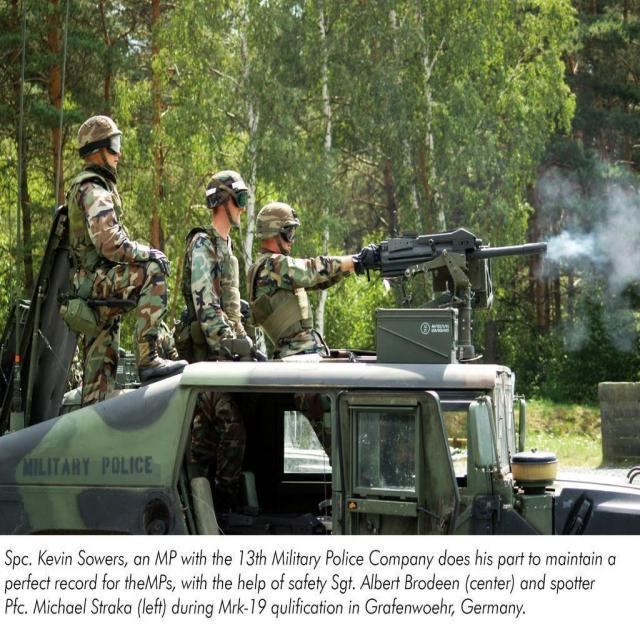Knife: (85, 296, 137, 310)
Rifle: (356, 210, 542, 290)
